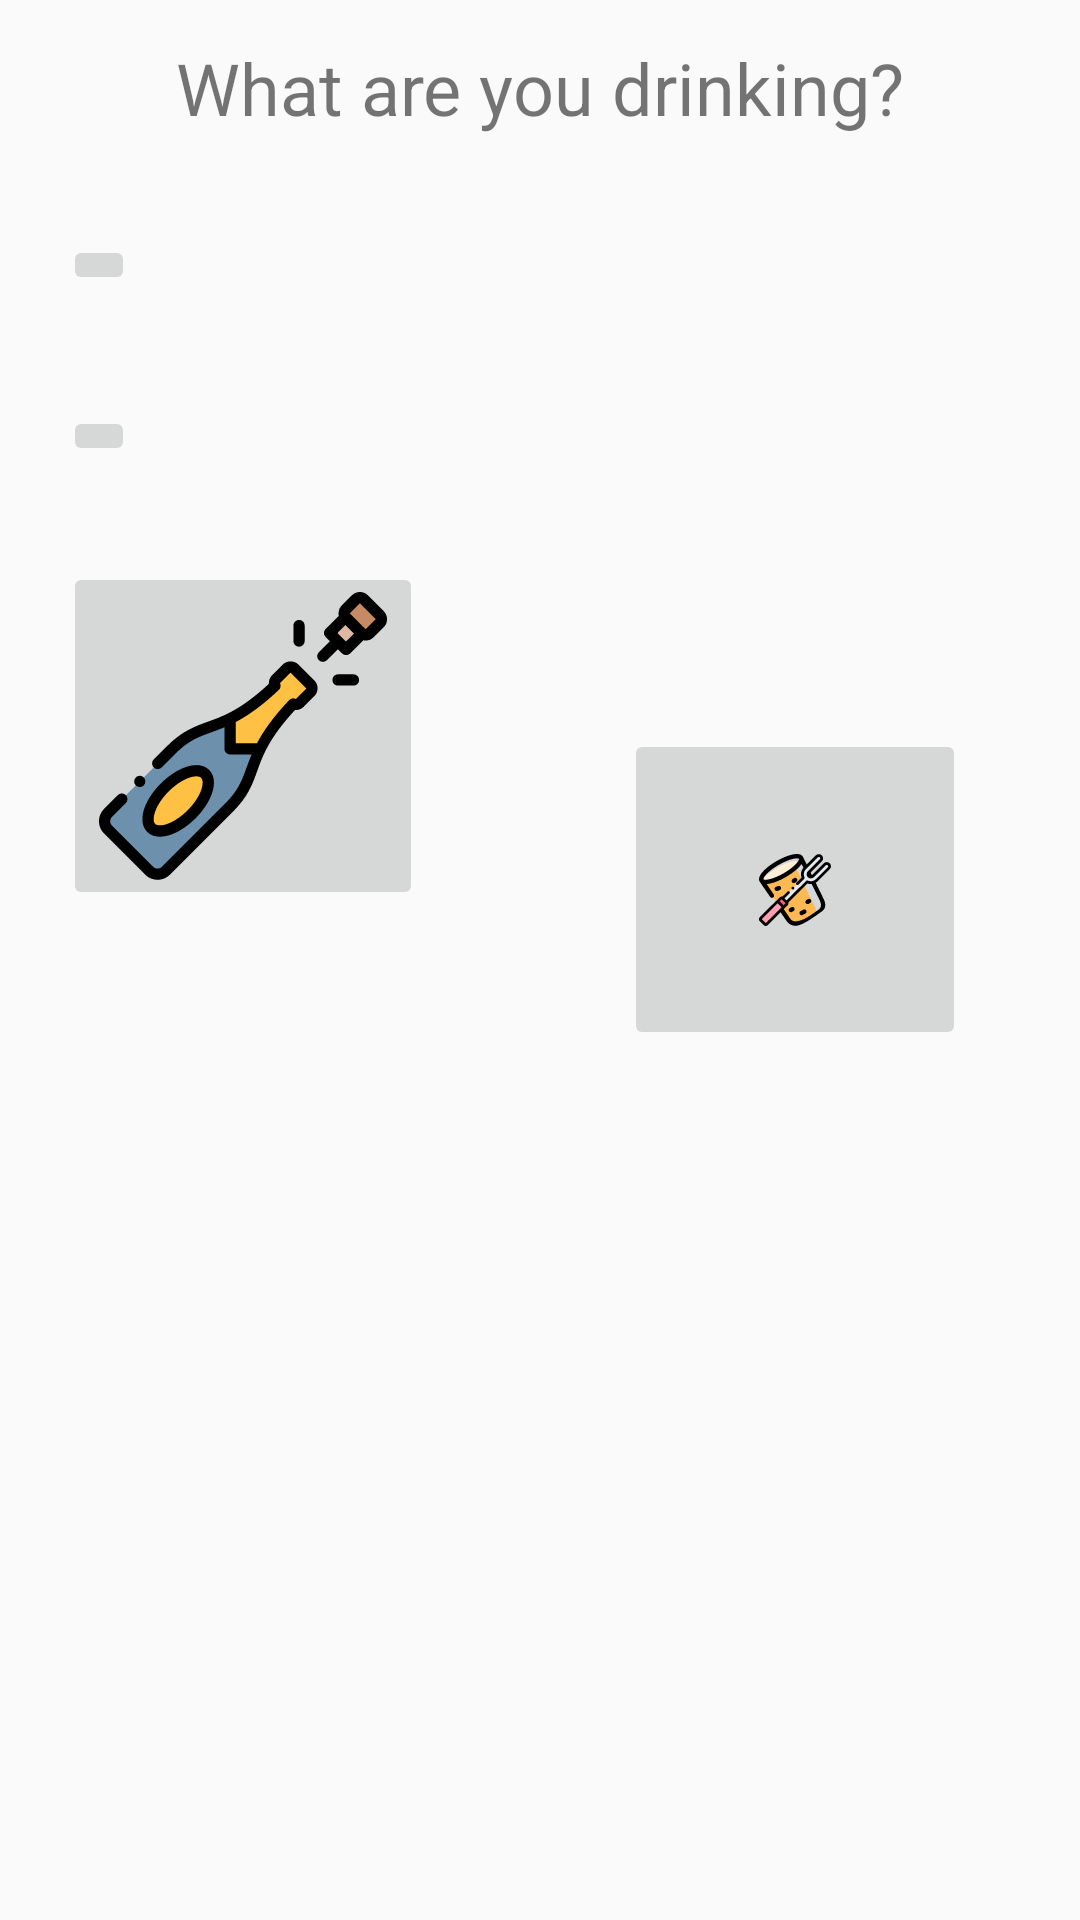

Where to tap for icons on this 1080 × 1920 app screen, as (x,y):
drinktype champagne: (243,736)
